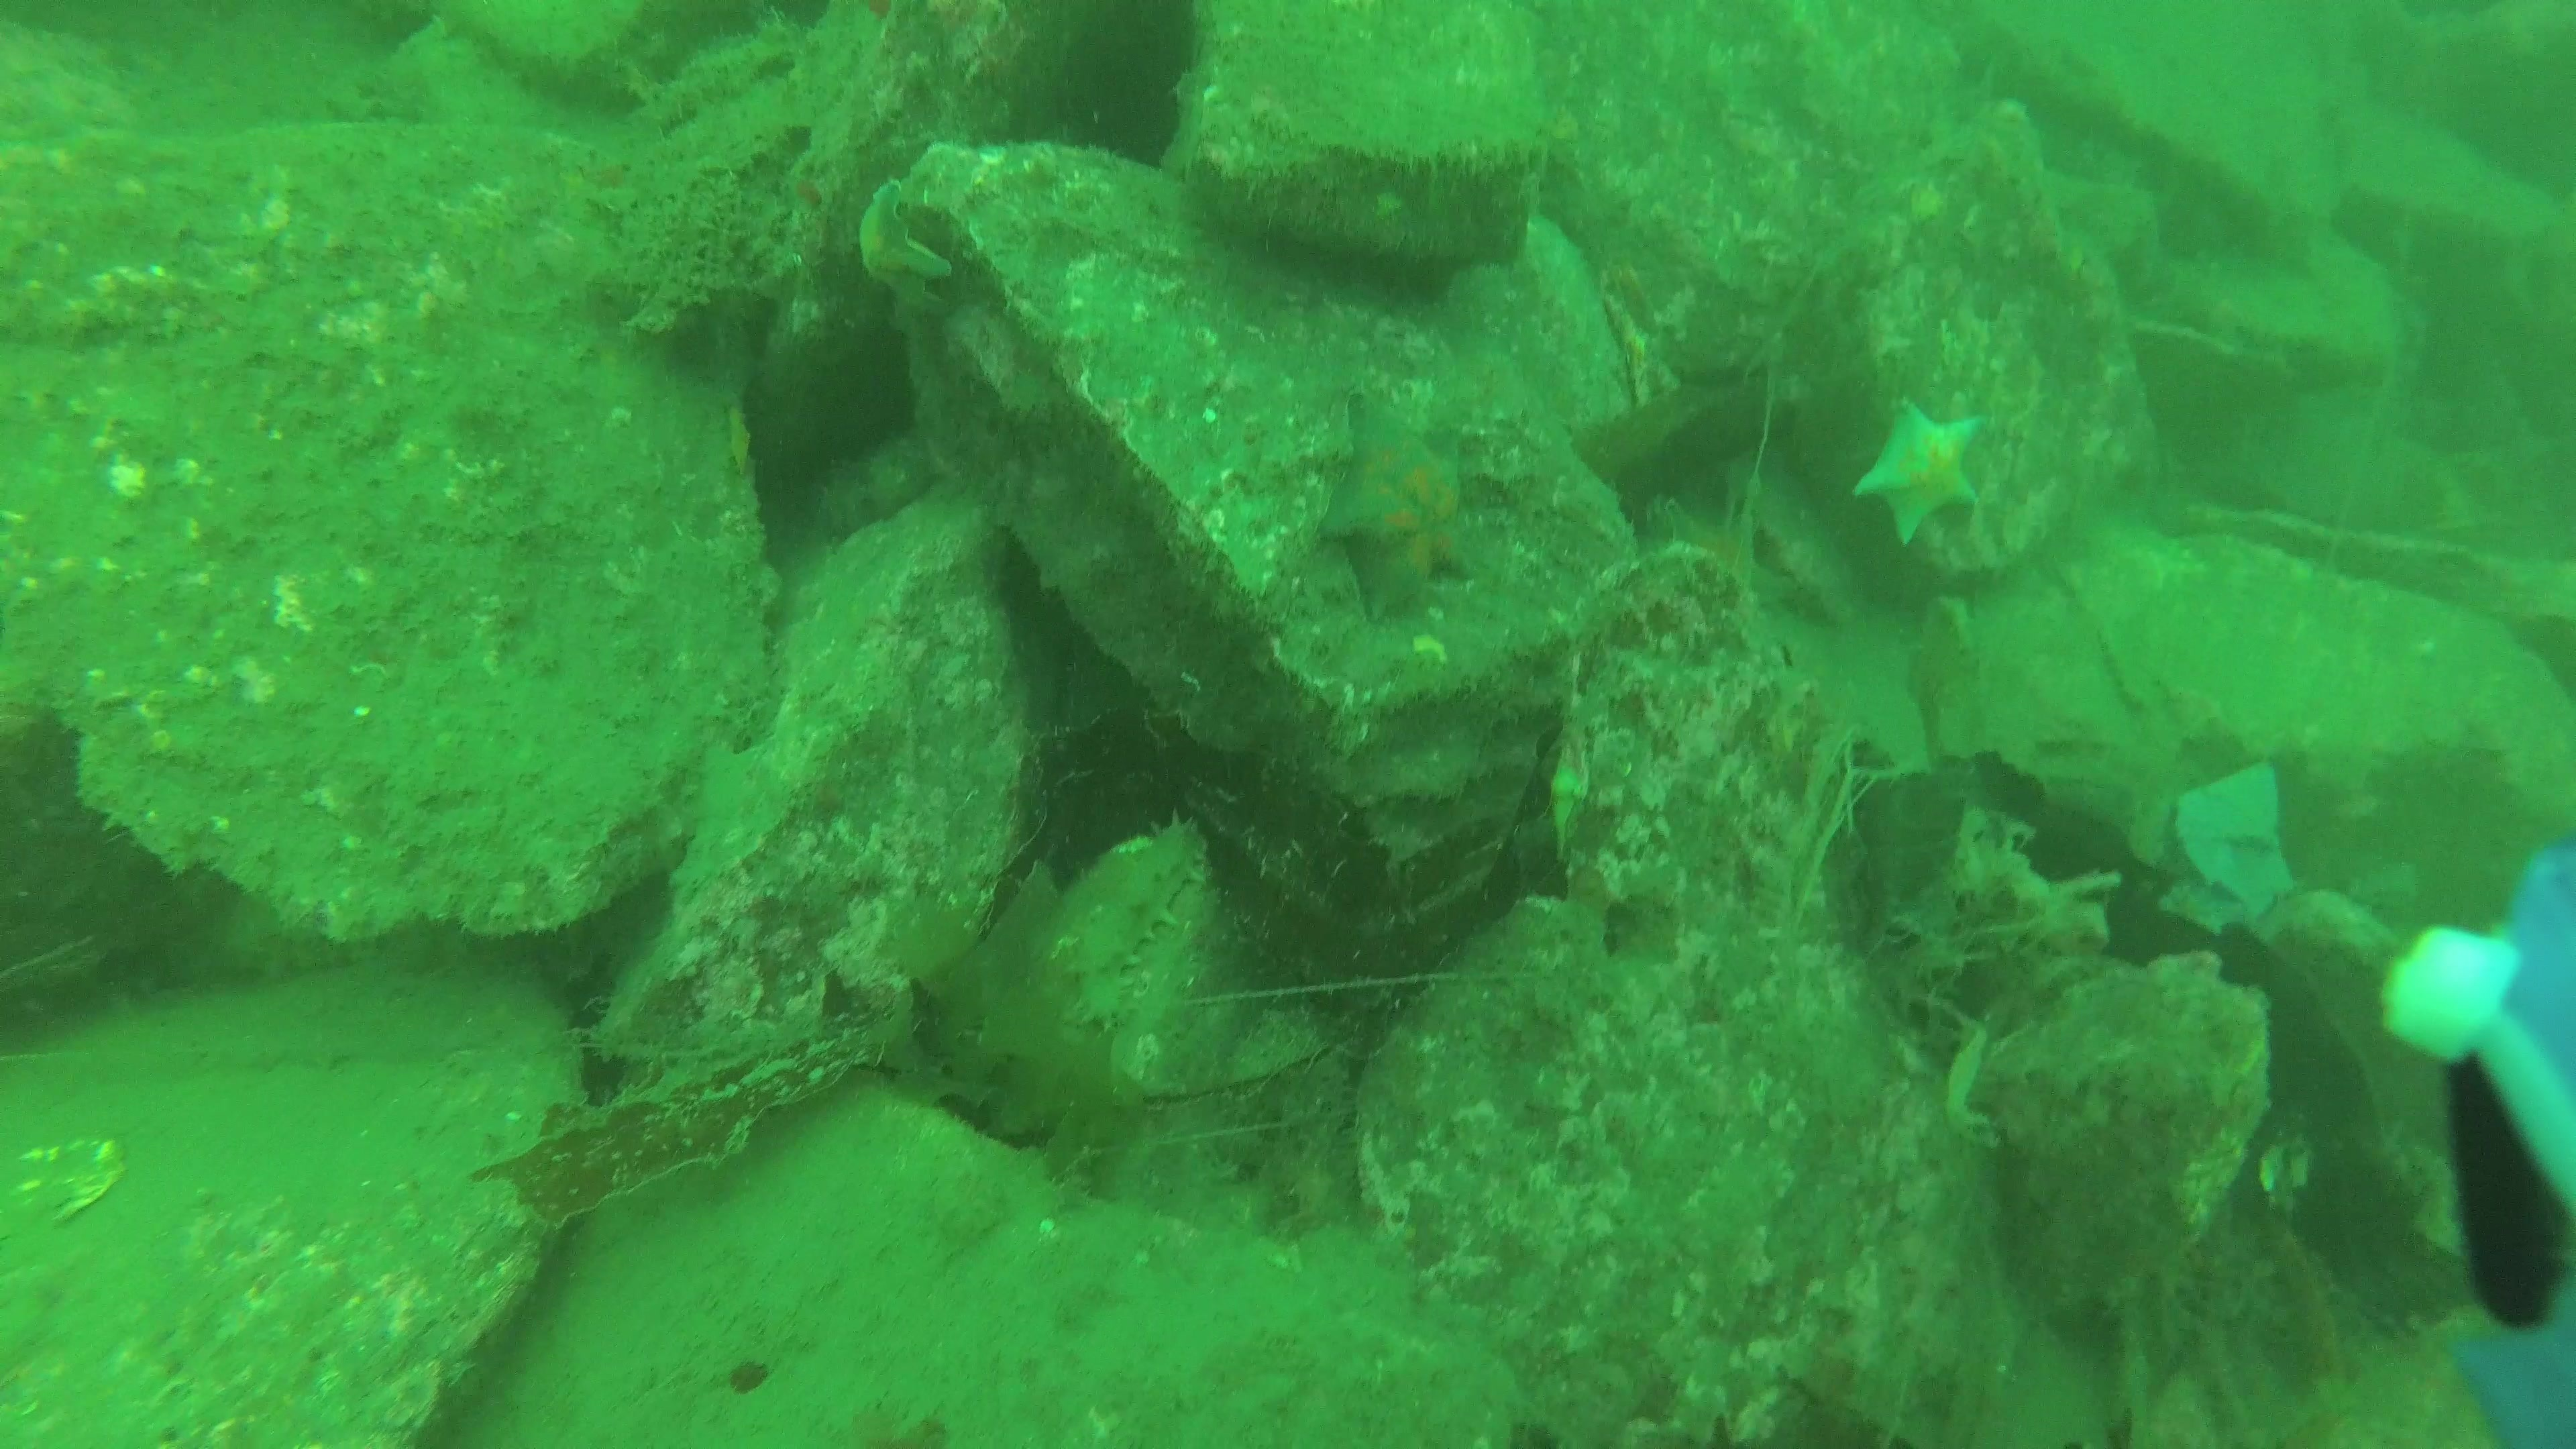holothurian: (1063, 812, 1214, 1039)
starfish: (1309, 384, 1486, 632), (1851, 395, 1987, 556), (849, 177, 962, 327)
